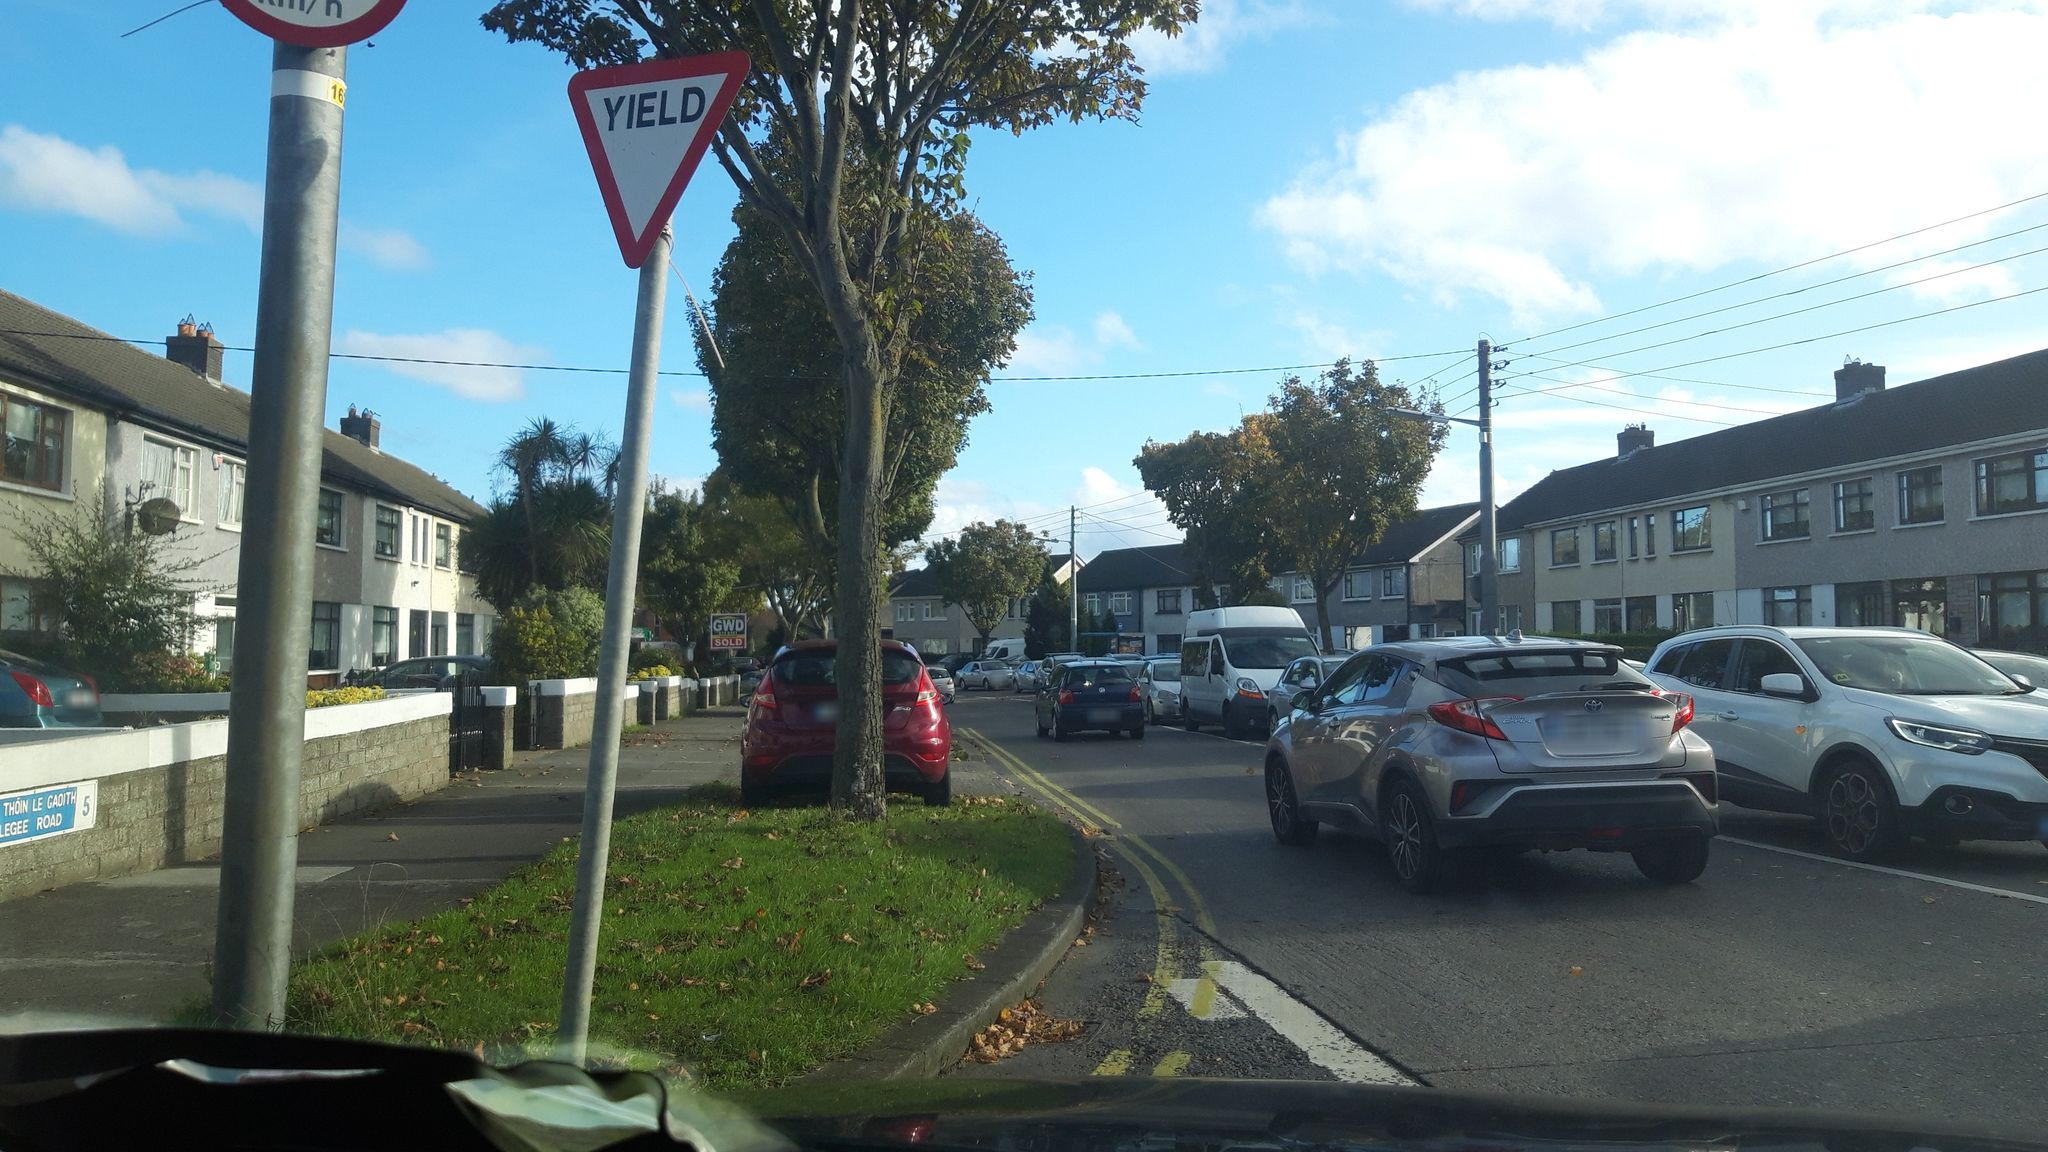property sign: (696, 596, 760, 657)
